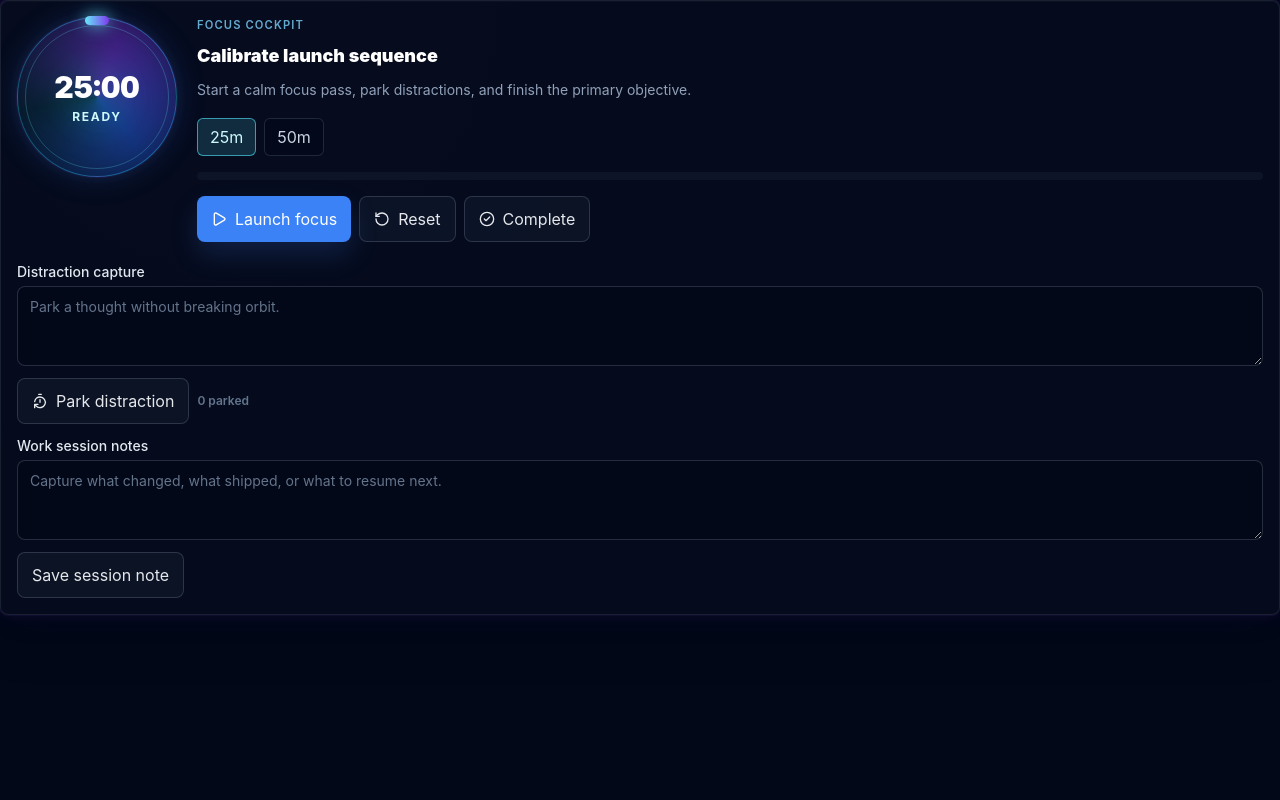
FocusSessionPanel › launches and pauses a focus session around the primary objective
The image size is (1280, 800).
Expected: the heading "Calibrate launch sequence" is shown, [197,45,438,66]
Expected: the text "25:00" is shown, [54,69,140,105]
What coordinates should you click on to do the following:
click the button with aria-label "Launch focus session"
I would click on:
 (274, 219)
Its box is [197,196,351,242].
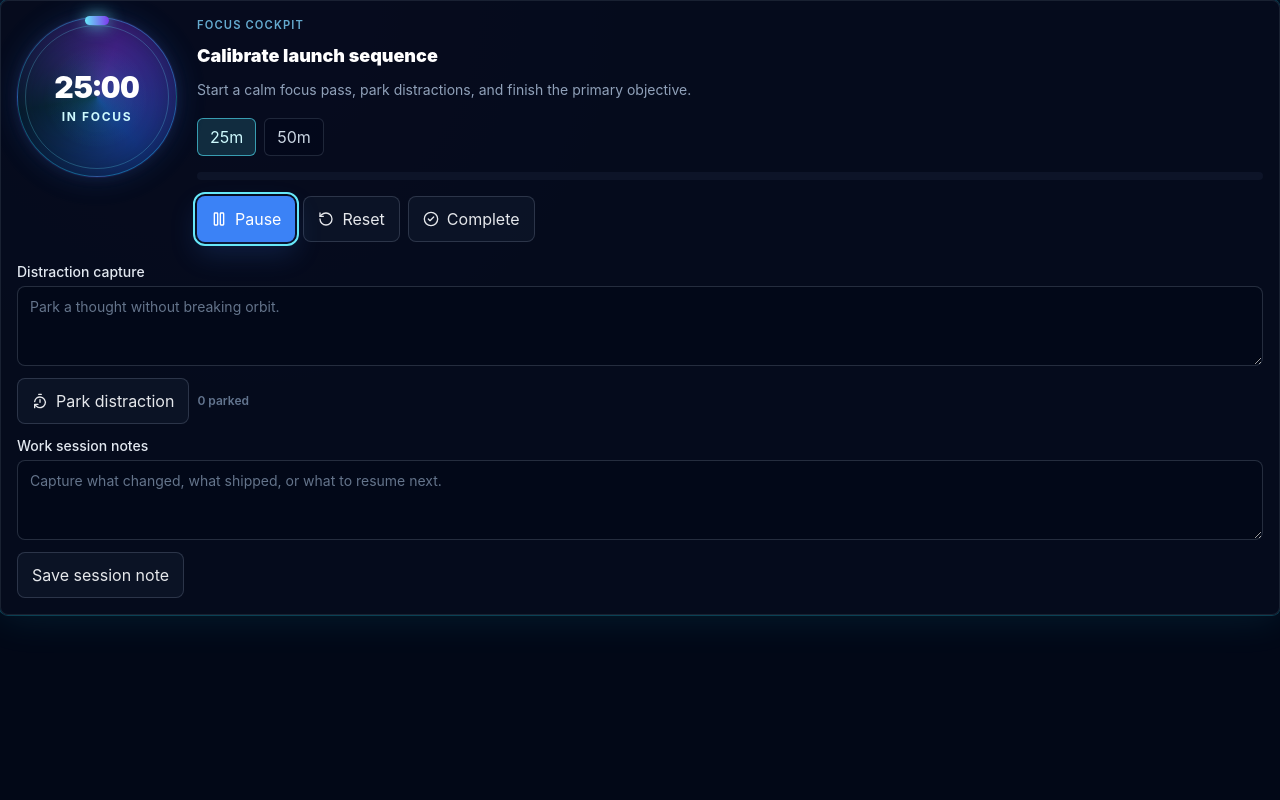
Expected: the text "In focus" is shown, [62,109,132,124]
Expected: the button with aria-label "Pause focus session" is shown
What coordinates should you click on to do the following:
click the button with aria-label "Pause focus session"
I would click on:
 (246, 219)
Its box is [197,196,295,242].
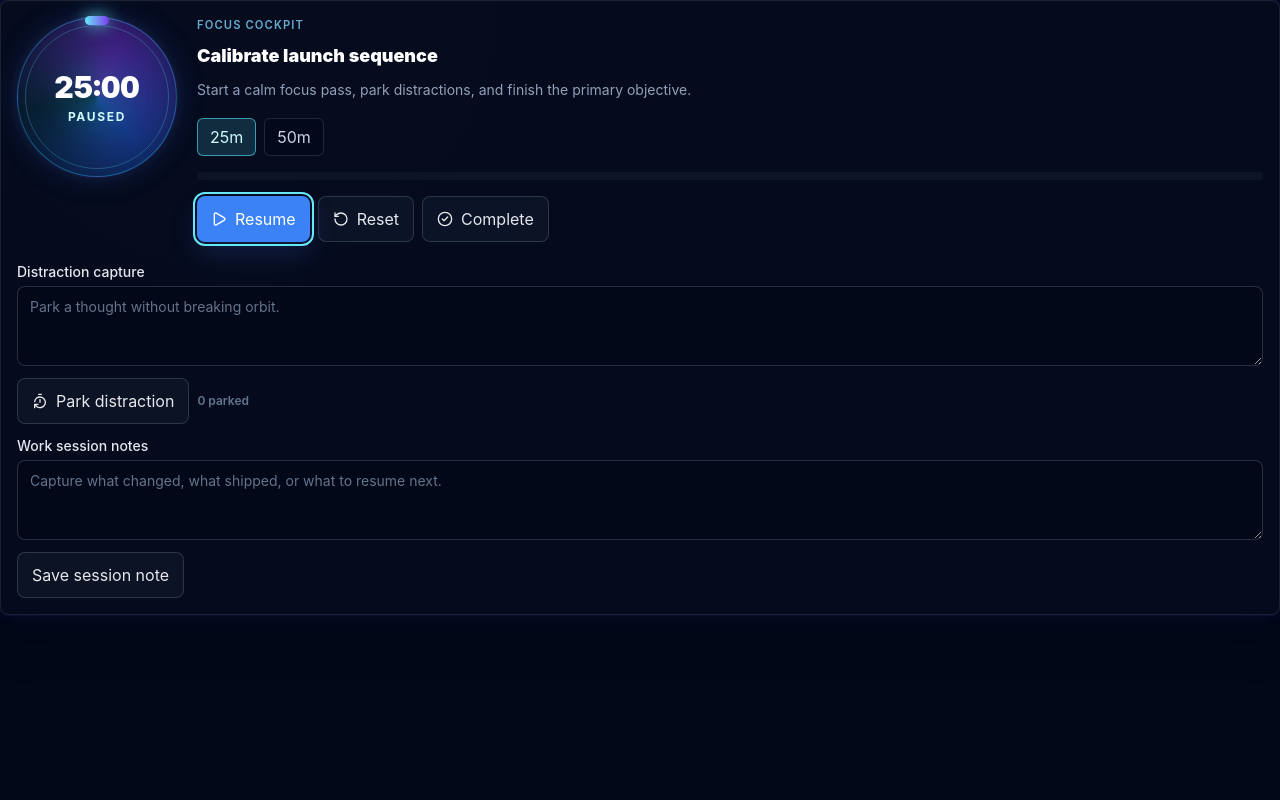
Expected: the text "Paused" is shown, [68,109,126,124]
Expected: the button with aria-label "Resume focus session" is shown, [197,196,310,242]
